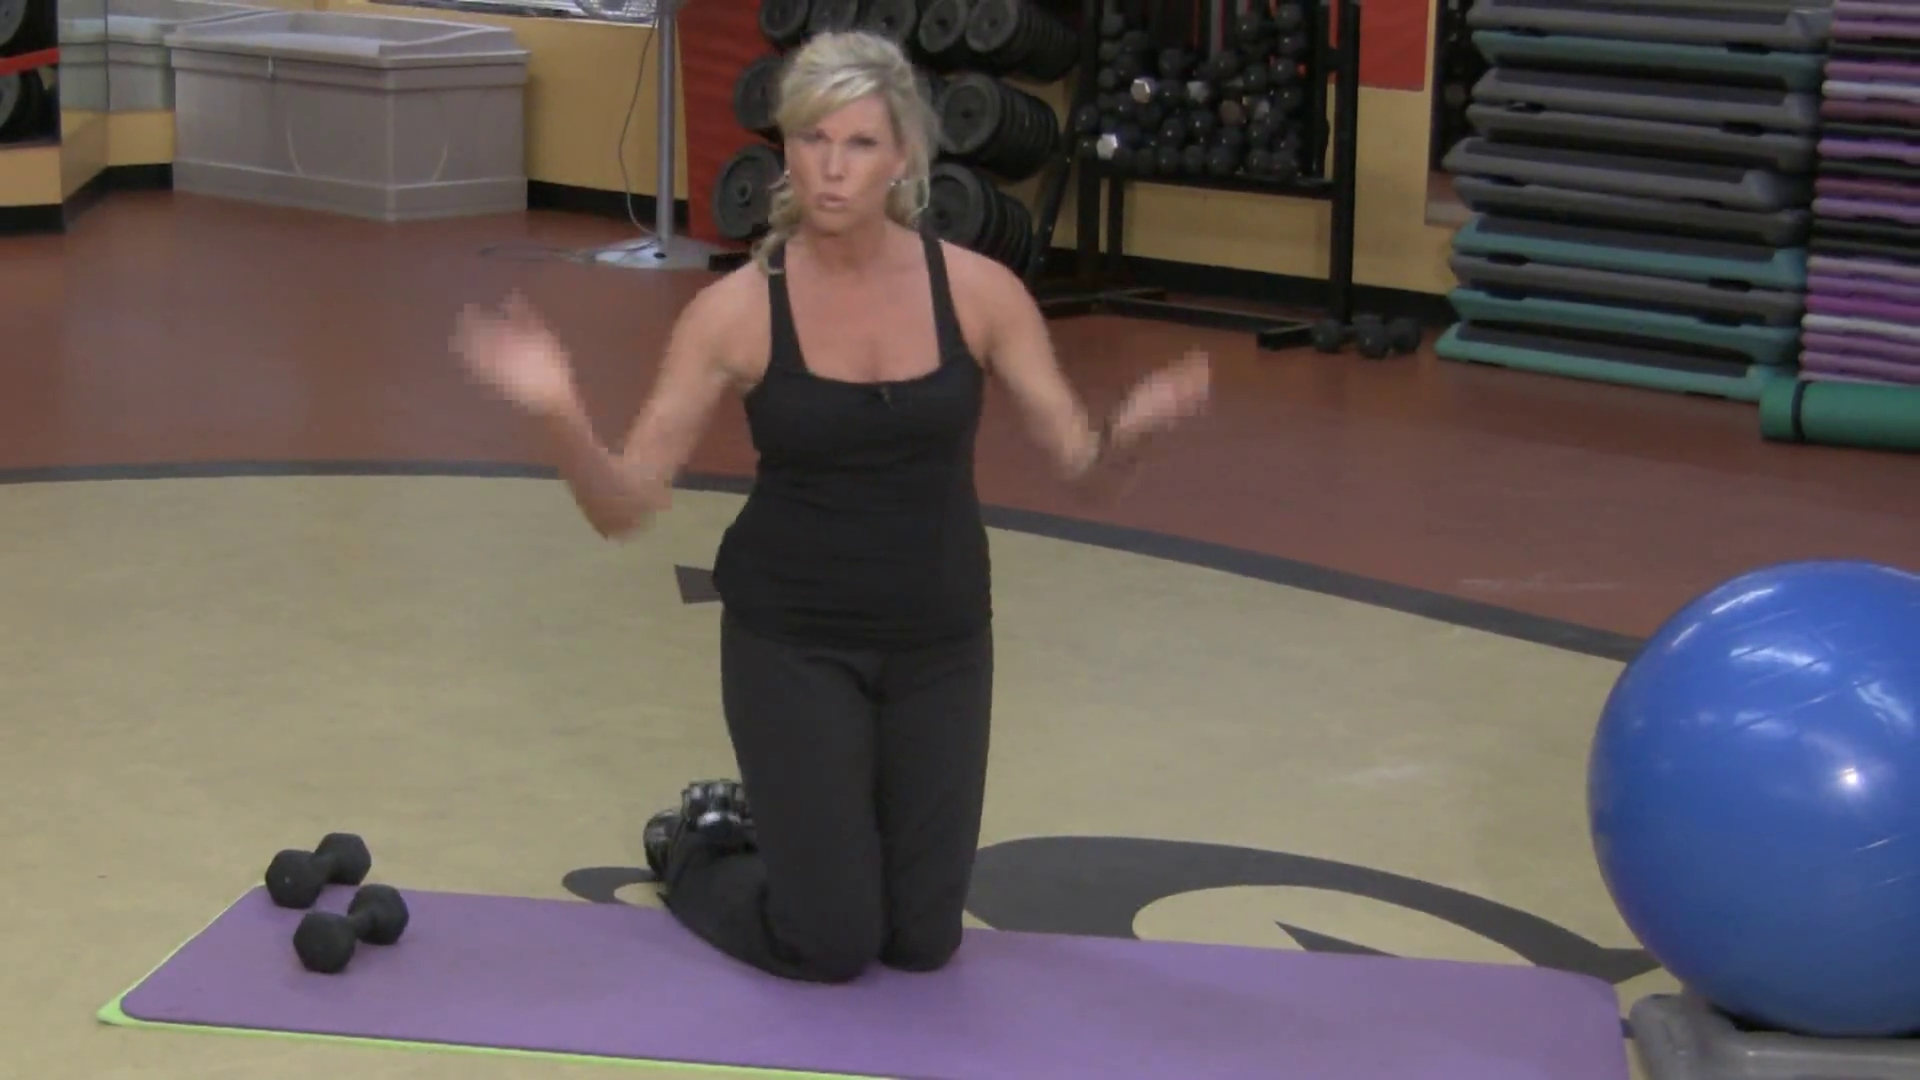person: (447, 30, 1208, 985)
